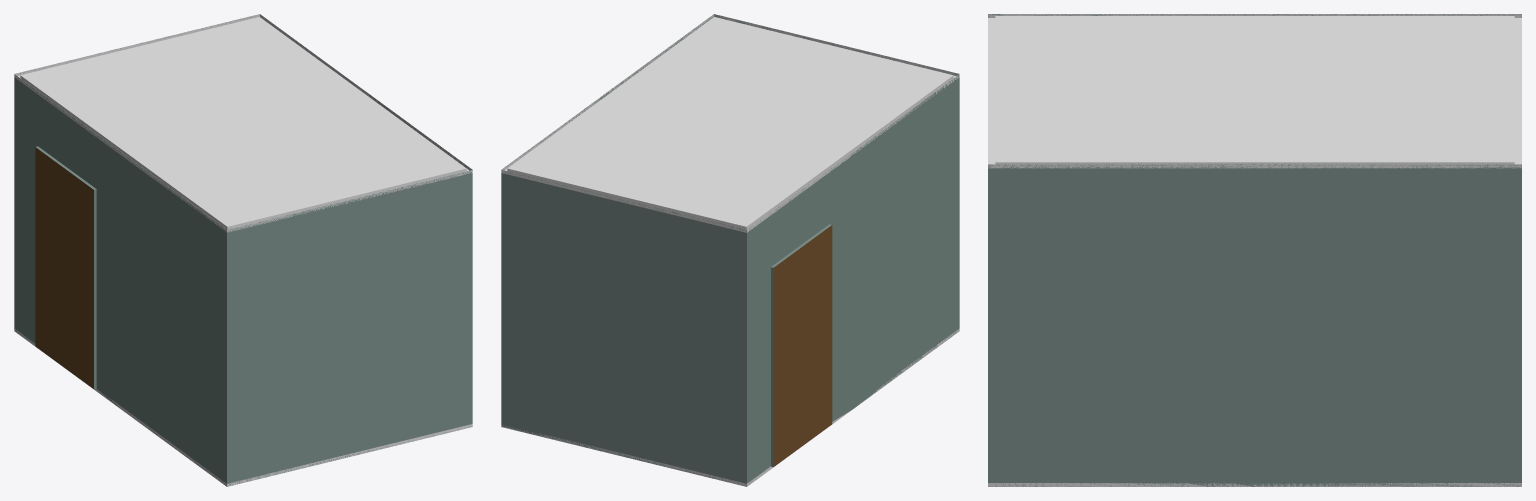
The model's file is Bedroom_GGJ.fbx.
3 renders of one model, left to right at view 1: azimuth 30°, elevation 25°; view 2: azimuth 150°, elevation 25°; view 3: azimuth 270°, elevation 25°, orthographic. The views are drawn at different scales.
Visible parts, largest first — view 1: Cube.001; view 2: Cube.001; view 3: Cube.001.
Part boxes in pixels (x1,y1,x2,y2): Cube.001: [14, 14, 472, 486]; Cube.001: [501, 14, 959, 486]; Cube.001: [988, 14, 1521, 486].
Bounding box in the file's own units: 1099 × 1087 × 1631.
